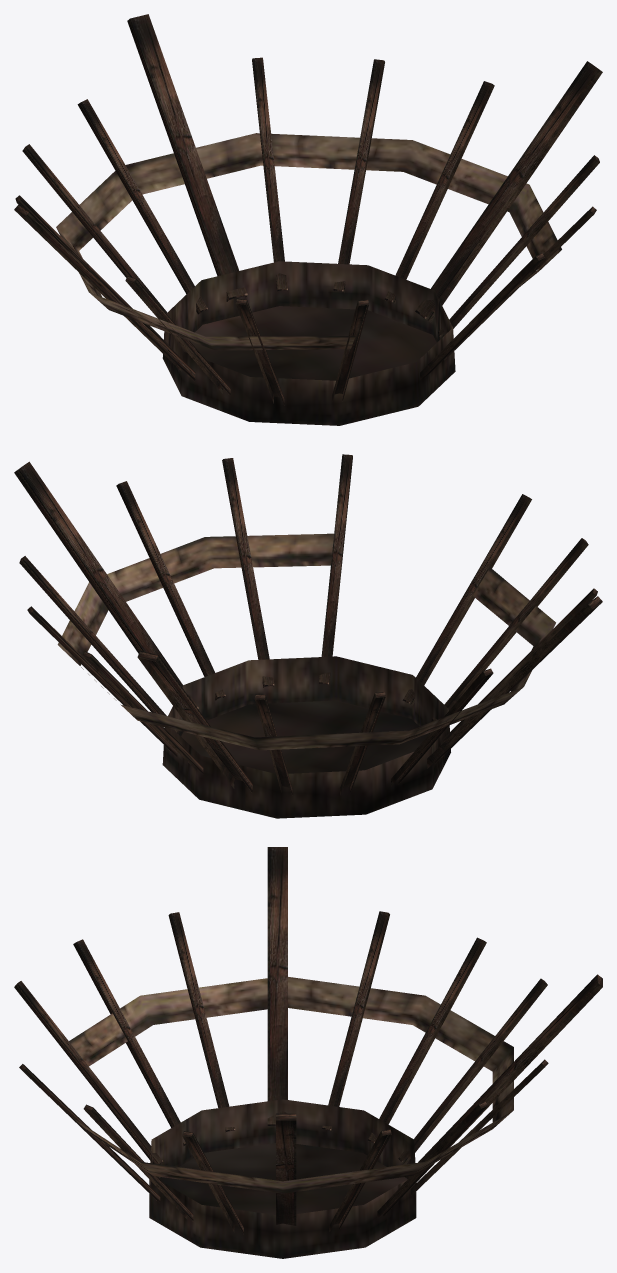
3 renders of one model, top to bottom at view 1: azimuth 30°, elevation 25°; view 2: azimuth 150°, elevation 25°; view 3: azimuth 270°, elevation 25°, orthographic. The views are drawn at different scales.
Parts seen in each view (by area): view 1: wj014; view 2: wj014; view 3: wj014.
Boxes of the visible parts, <box> form: wj014: <box>14,14,602,425</box>; wj014: <box>14,454,602,818</box>; wj014: <box>14,847,602,1258</box>.
Bounding box in the file's own units: 720 × 271 × 661.
